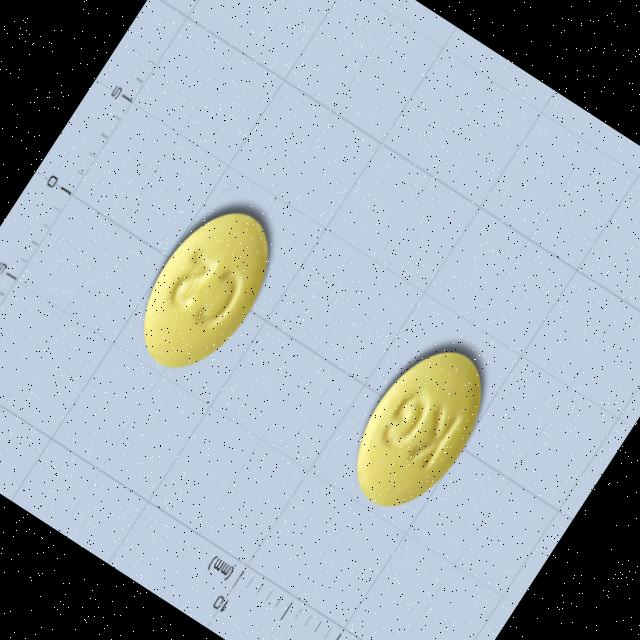Globit: (115, 186, 297, 392), (328, 328, 507, 530)
